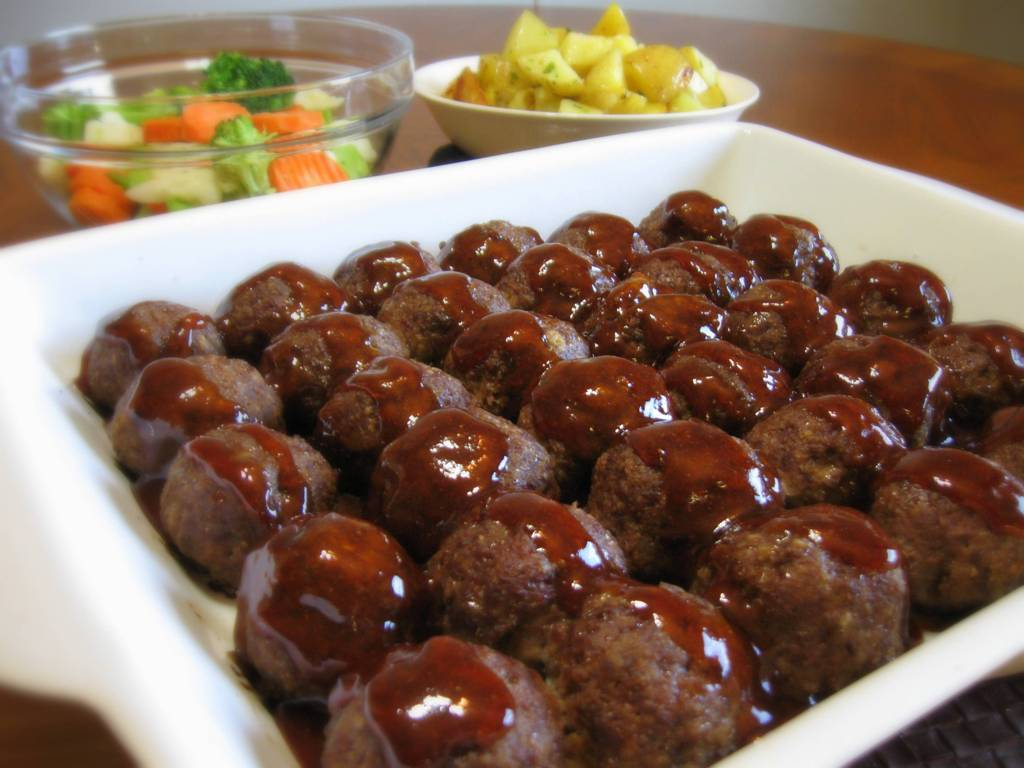meatballs: (549, 592, 757, 756), (714, 513, 899, 669), (597, 429, 777, 580), (249, 521, 410, 683), (341, 651, 546, 765), (173, 427, 324, 562), (883, 458, 1024, 595), (427, 496, 596, 609), (389, 413, 548, 509), (762, 393, 879, 506), (110, 356, 265, 441), (317, 351, 470, 435), (534, 364, 668, 458), (447, 317, 583, 408), (88, 292, 216, 386), (814, 333, 933, 426), (674, 329, 770, 422), (274, 315, 390, 390), (731, 283, 839, 363), (398, 279, 498, 353), (937, 321, 1024, 406), (840, 267, 946, 335), (653, 243, 758, 308), (552, 208, 655, 274), (732, 222, 831, 285), (603, 283, 692, 352), (340, 250, 435, 309), (234, 268, 338, 320), (507, 240, 588, 306), (645, 191, 740, 247), (444, 219, 527, 283)
